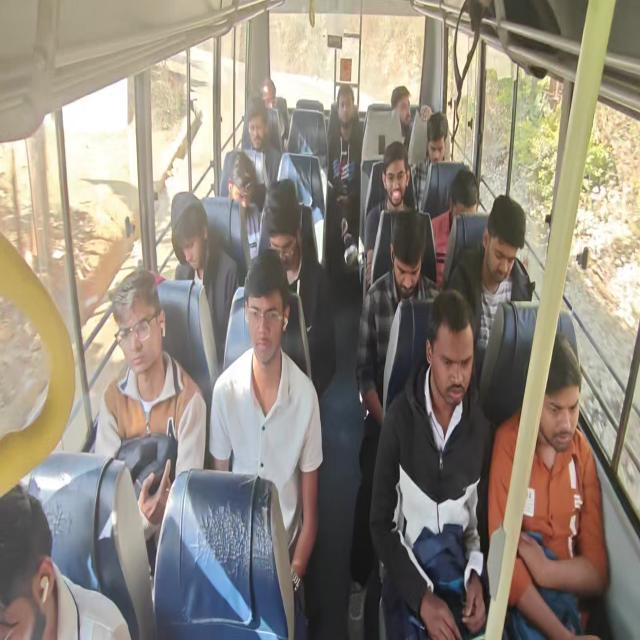person: (208, 249, 323, 633), (368, 288, 494, 638), (347, 210, 441, 637), (487, 331, 610, 638), (93, 267, 207, 566), (0, 483, 132, 639), (355, 210, 441, 426), (444, 193, 535, 383), (258, 178, 336, 398), (171, 193, 238, 367), (364, 141, 417, 291), (326, 84, 363, 265), (431, 168, 478, 288), (222, 149, 261, 253), (409, 110, 448, 211), (244, 97, 281, 187), (390, 85, 432, 157), (259, 76, 285, 149), (390, 85, 412, 145)
